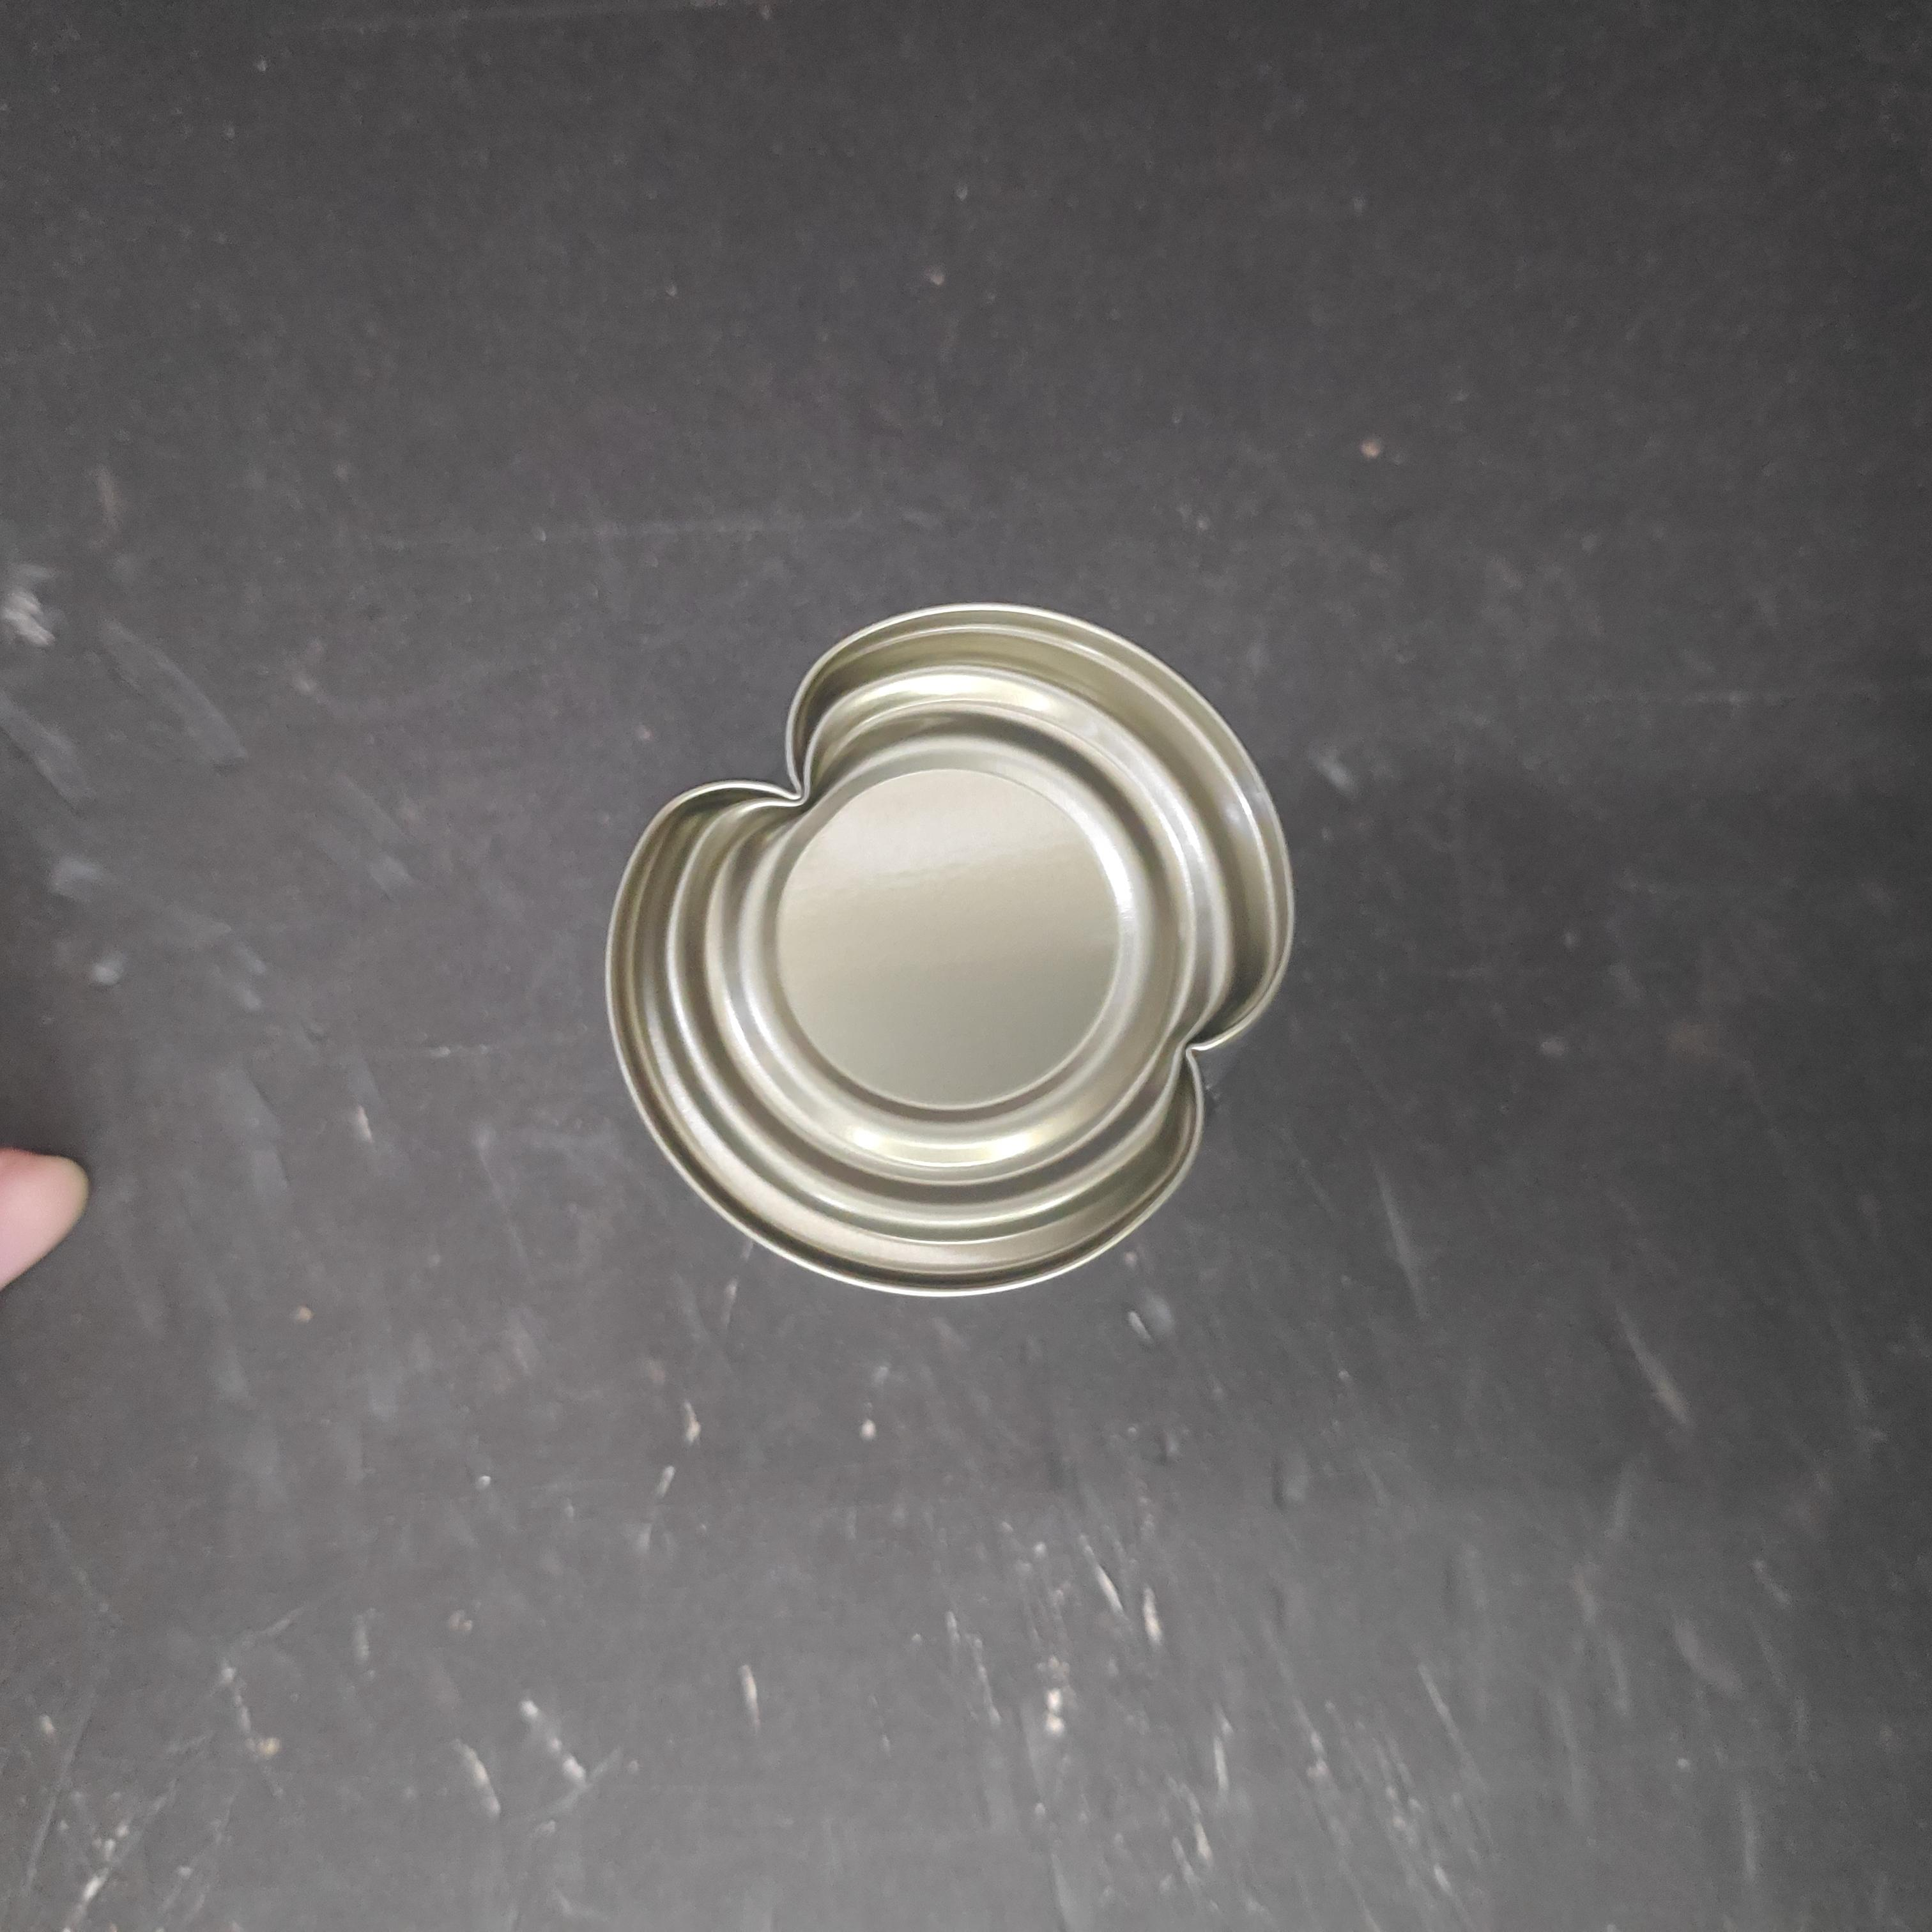Critical Defect: (625, 621, 1334, 1343)
